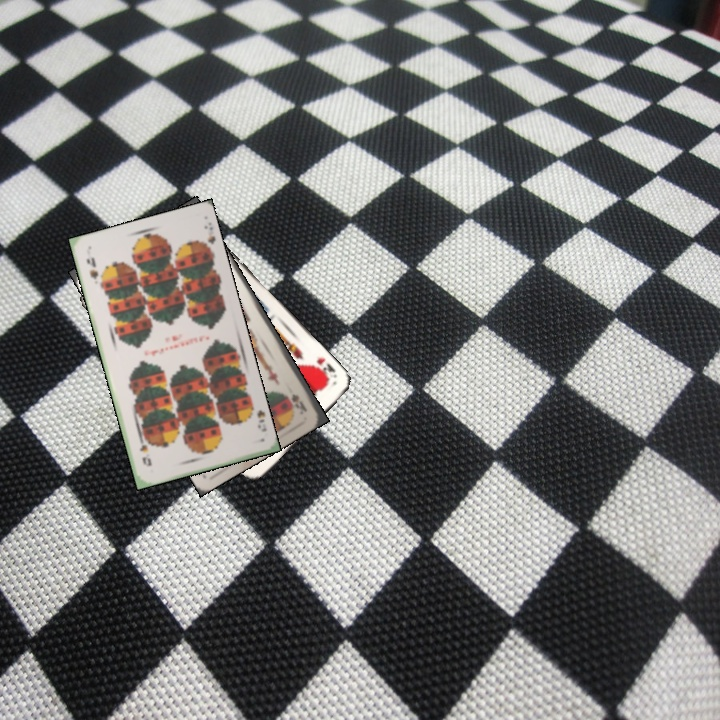HK: (309, 353, 340, 383)
S9: (246, 399, 269, 434), (83, 253, 101, 282)
SK: (287, 389, 310, 417)
